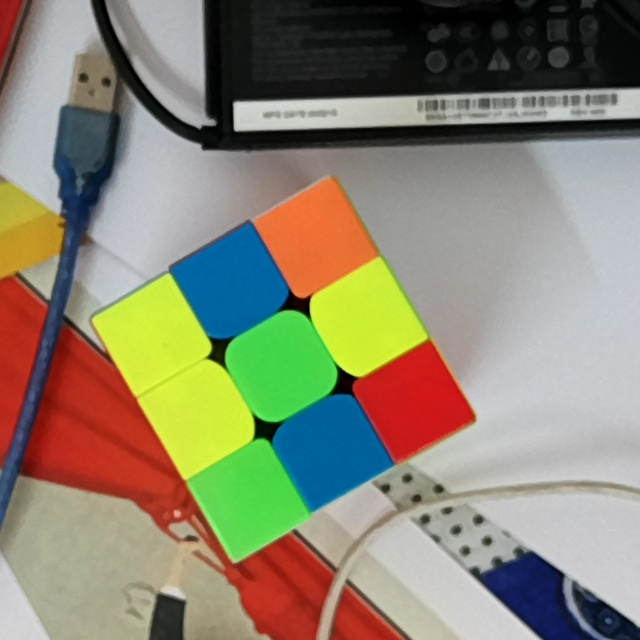tile: (248, 334, 316, 402), (296, 417, 366, 480), (281, 206, 348, 271), (380, 370, 447, 435), (166, 384, 234, 447), (200, 251, 263, 316), (334, 287, 397, 352), (216, 464, 278, 530), (120, 305, 182, 365)
